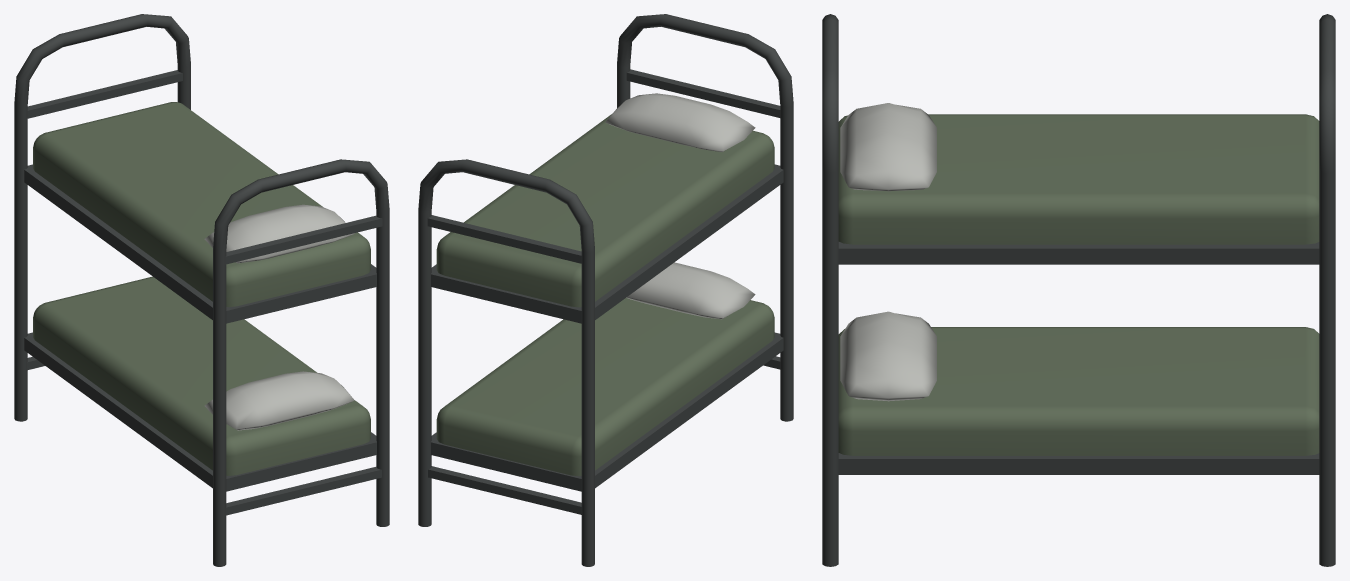
The model's file is bed boi.fbx.
The picture shows the model from 3 angles, left to right: view 1: azimuth 30°, elevation 25°; view 2: azimuth 150°, elevation 25°; view 3: azimuth 270°, elevation 25°; orthographic projection. The views are drawn at different scales.
Visible parts, largest first — view 1: pCube50; view 2: pCube50; view 3: pCube50.
Part boxes in pixels (x1=…): pCube50: x1=14, y1=14, x2=389, y2=566; pCube50: x1=418, y1=14, x2=793, y2=566; pCube50: x1=822, y1=14, x2=1335, y2=566.
Size of the model in its own units: 47.8 by 97.66 by 96.95.
